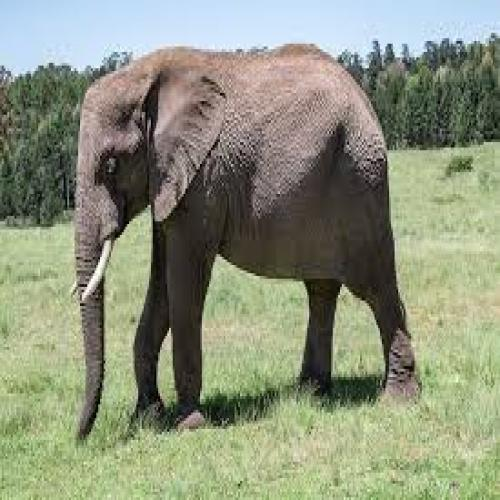asian_elephant-endangered: (70, 45, 422, 438)
